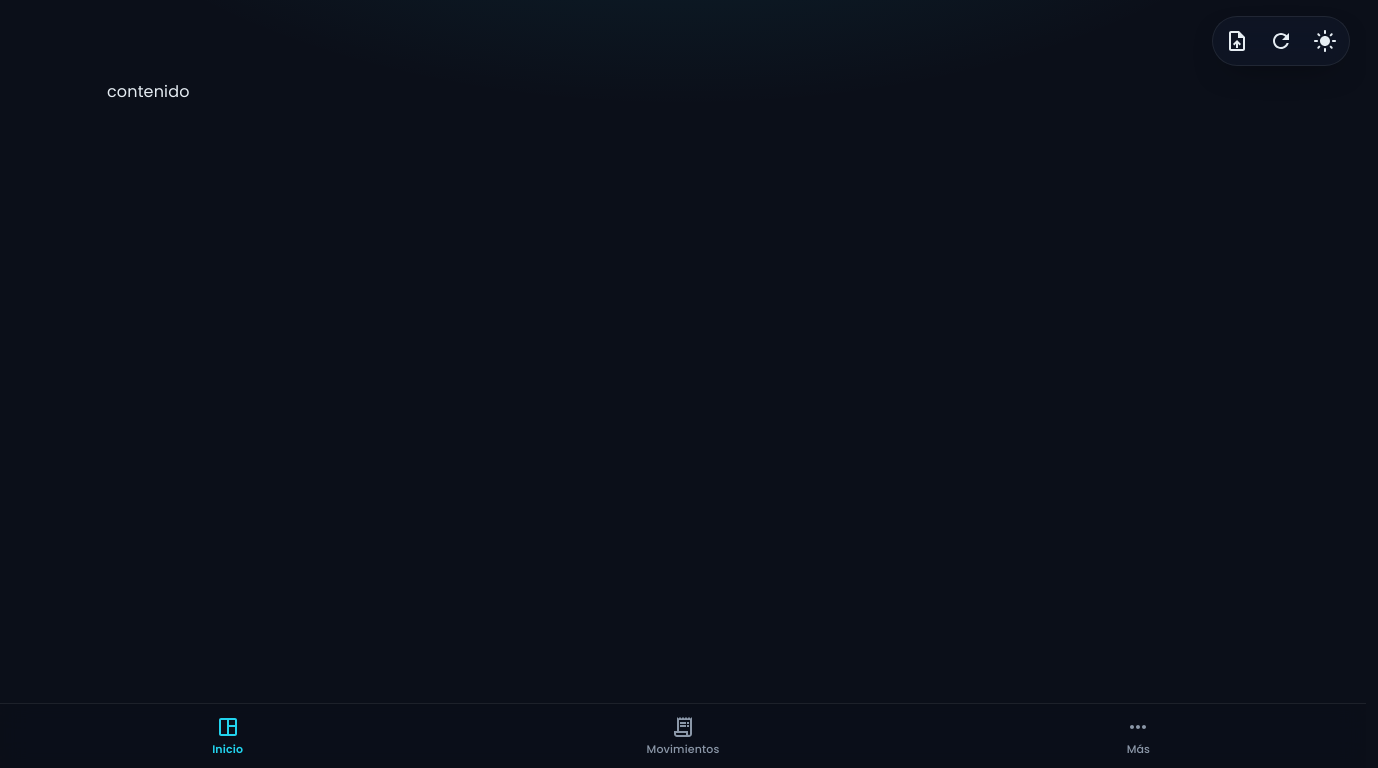
Test: Layout en mobile › si la pantalla pasa a tamaño compu con «Más» abierto, no queda nada tapando la app
Click the button "Más".
click(1138, 736)  # box [911,704,1366,767]
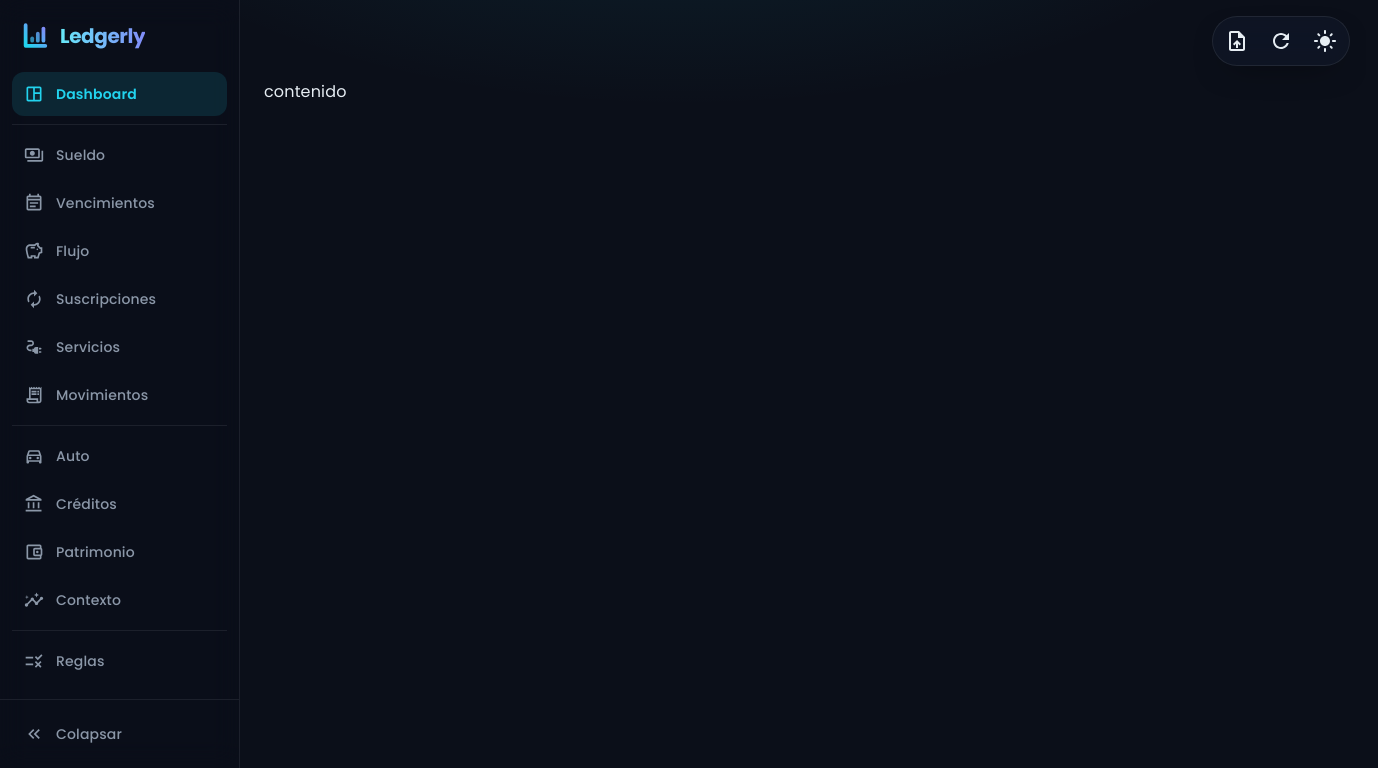
Now the button with aria-label "colapsar menú" is shown, box [24,724,122,744]
